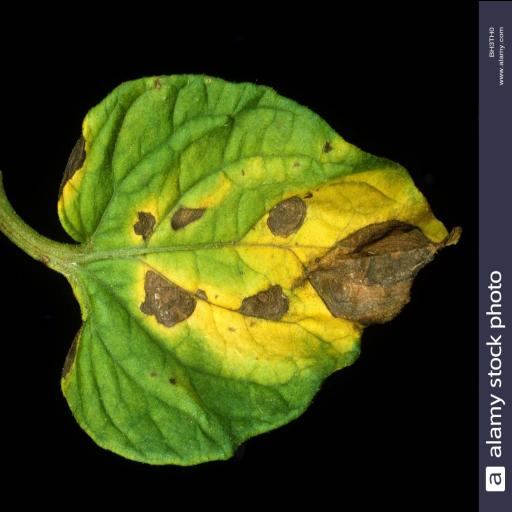Early Blight: (56, 71, 456, 463)
